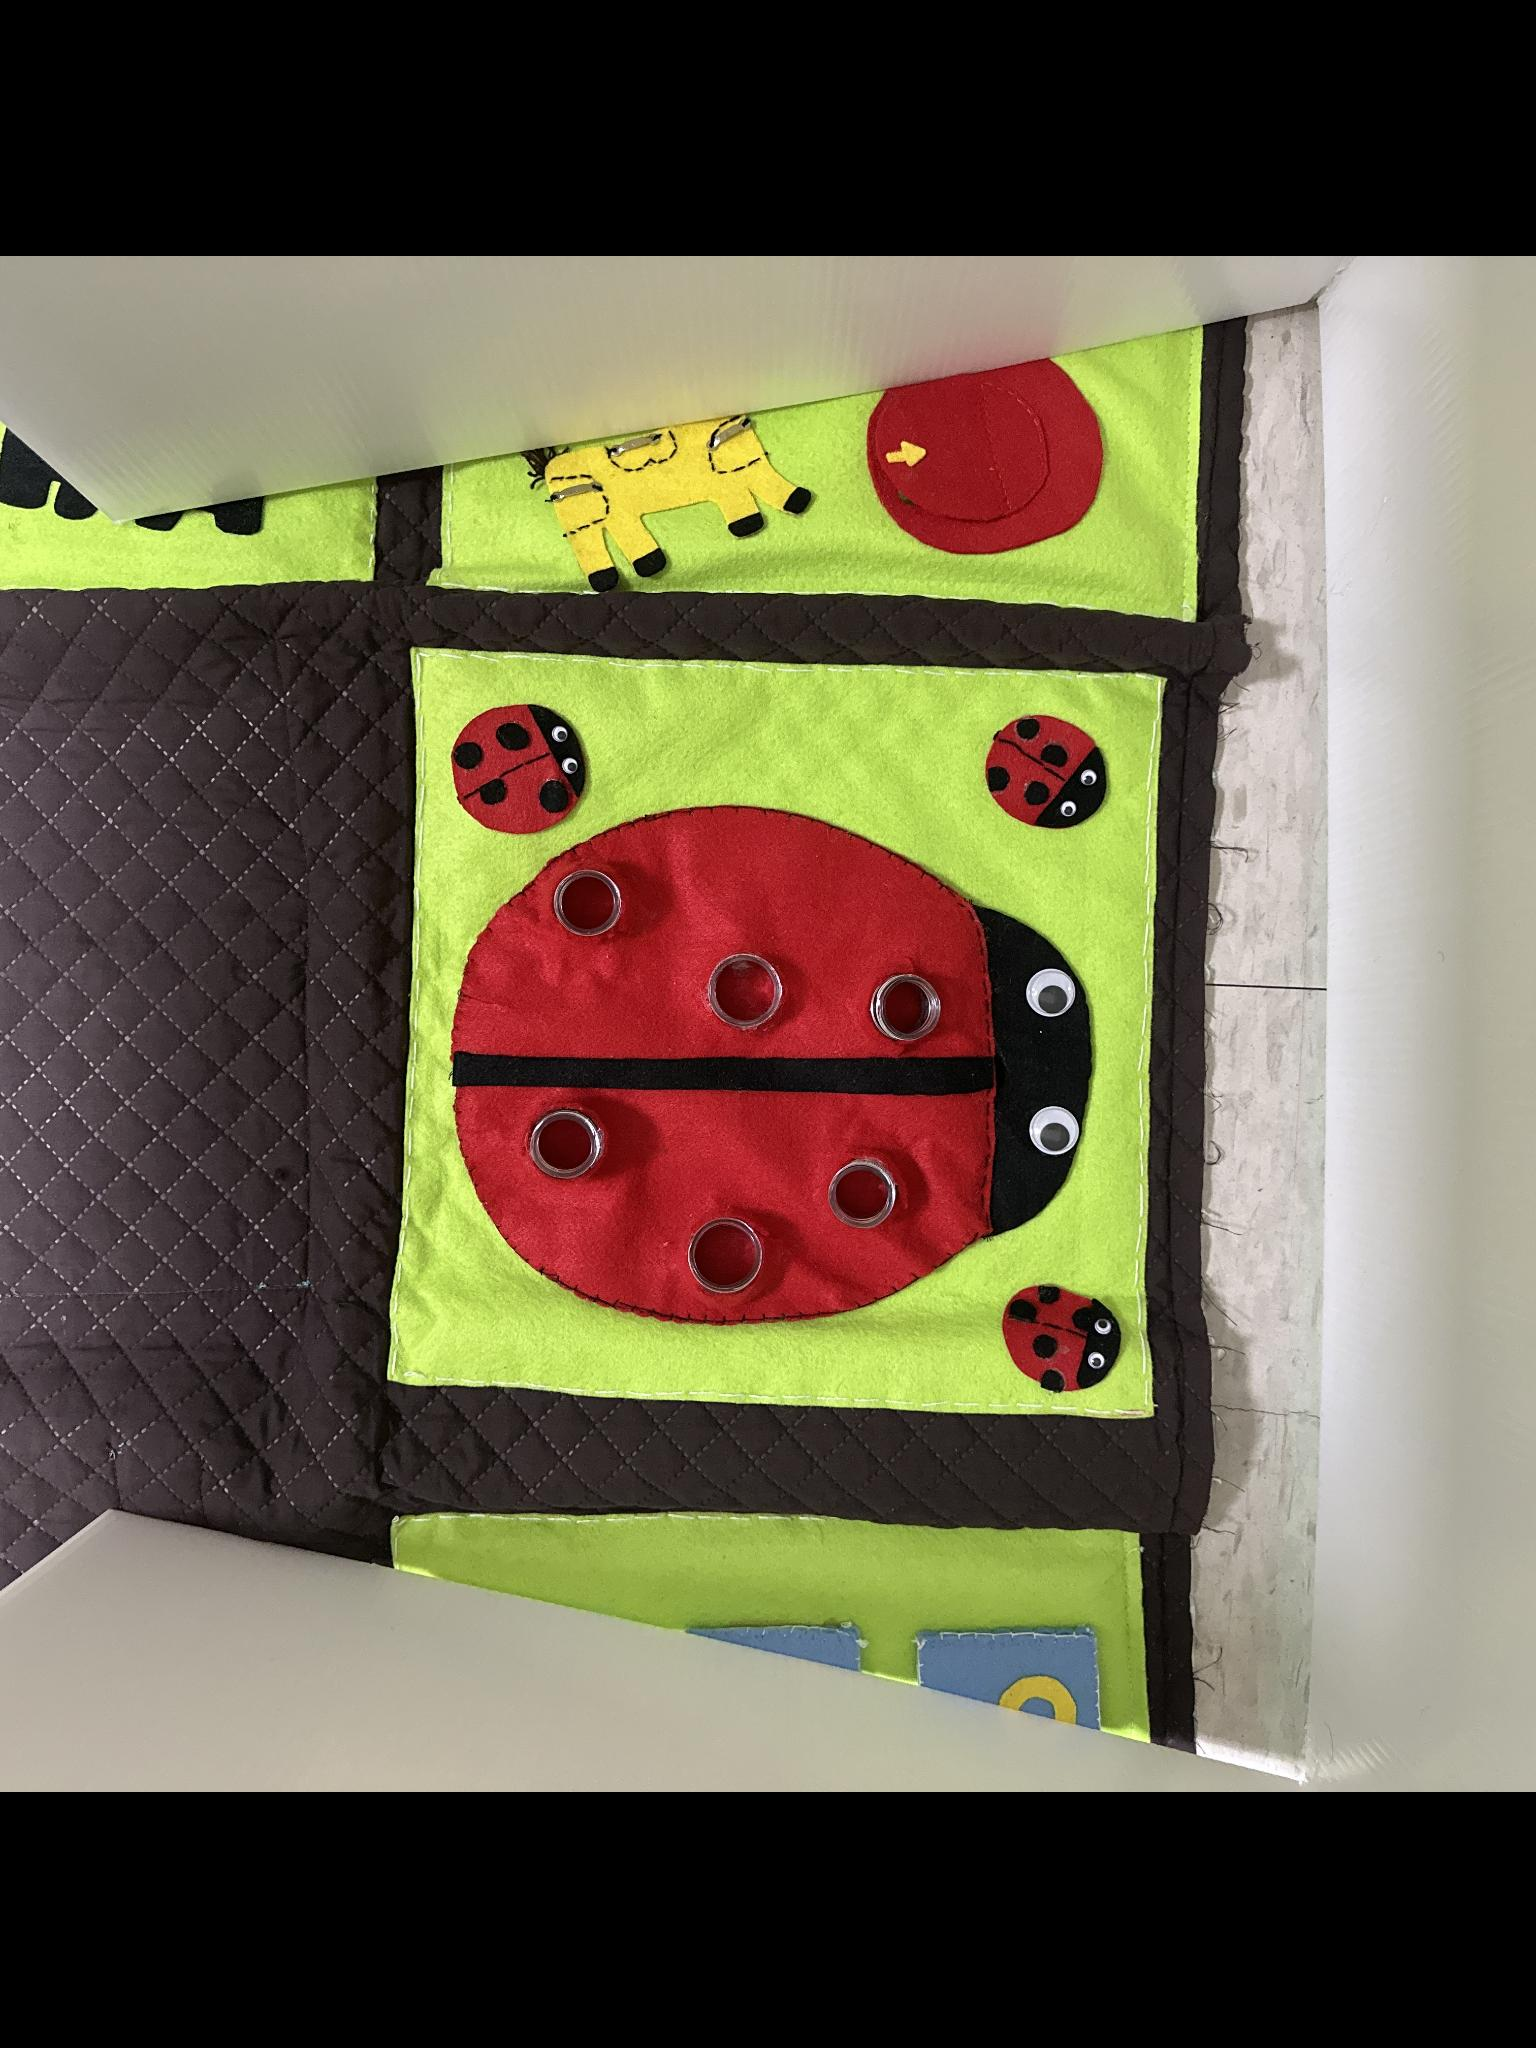hole: (858, 956, 949, 1043), (537, 866, 634, 947), (812, 1156, 902, 1242), (700, 963, 794, 1040), (518, 1105, 610, 1182), (689, 1221, 760, 1282)
ladybug_case: (436, 805, 1094, 1327)
